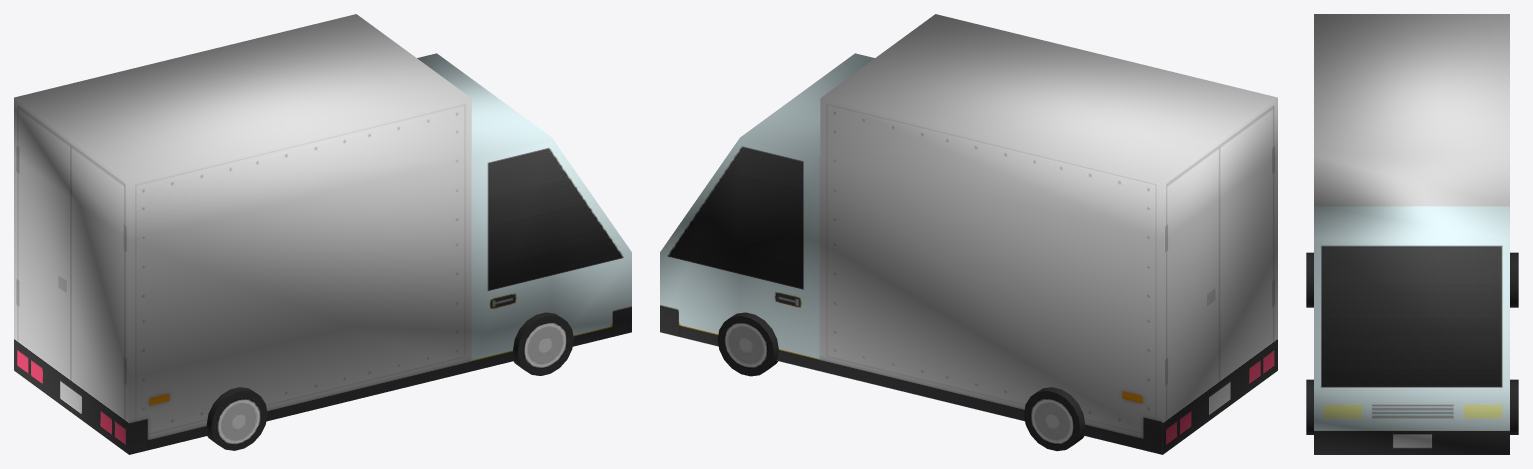
The model's file is Truck_white.fbx.
3 renders of one model, left to right at view 1: azimuth 30°, elevation 25°; view 2: azimuth 150°, elevation 25°; view 3: azimuth 270°, elevation 25°, orthographic. The views are drawn at different scales.
Parts seen in each view (by area): view 1: Car_09; view 2: Car_09; view 3: Car_09.
Part boxes in pixels (<box>): Car_09: <box>14,14,631,454</box>; Car_09: <box>660,14,1277,454</box>; Car_09: <box>1306,14,1518,454</box>.
Size of the model in its own units: 121 by 66.63 by 51.85.
1 material, 1 textured.
